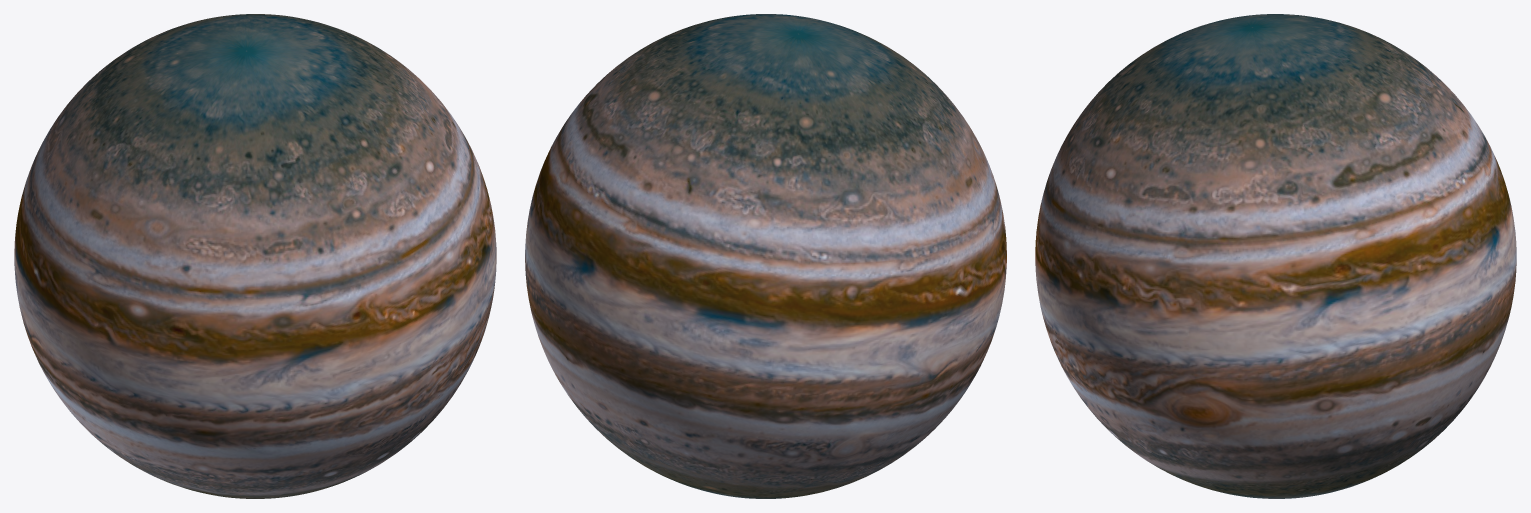
Rendered from jupiter.glb.
3 renders of one model, left to right at view 1: azimuth 30°, elevation 25°; view 2: azimuth 150°, elevation 25°; view 3: azimuth 270°, elevation 25°, orthographic.
Visible parts, largest first — view 1: Jupiter; view 2: Jupiter; view 3: Jupiter.
Boxes of the visible parts, <box> form: Jupiter: <box>14,14,496,498</box>; Jupiter: <box>525,14,1006,498</box>; Jupiter: <box>1035,14,1516,498</box>.
Bounding box in the file's own units: 1.39 × 1.4 × 1.39.
Materials: 1 (1 with a texture image).
